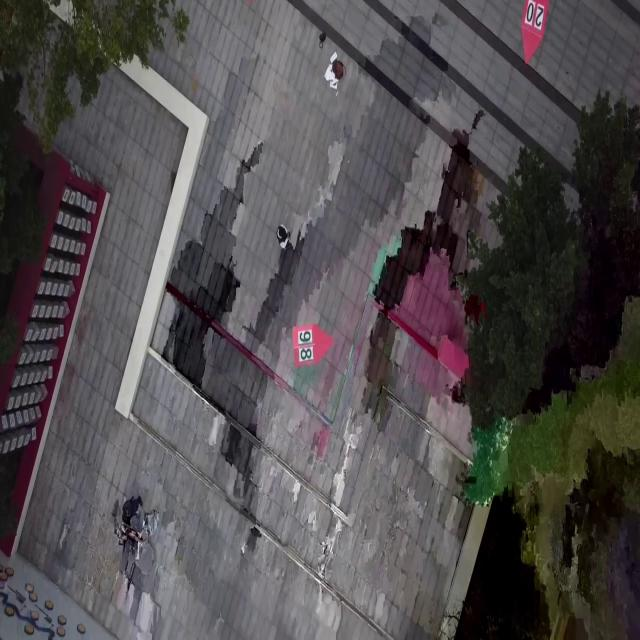-sign-: (293, 322, 335, 368), (520, 0, 548, 66)
